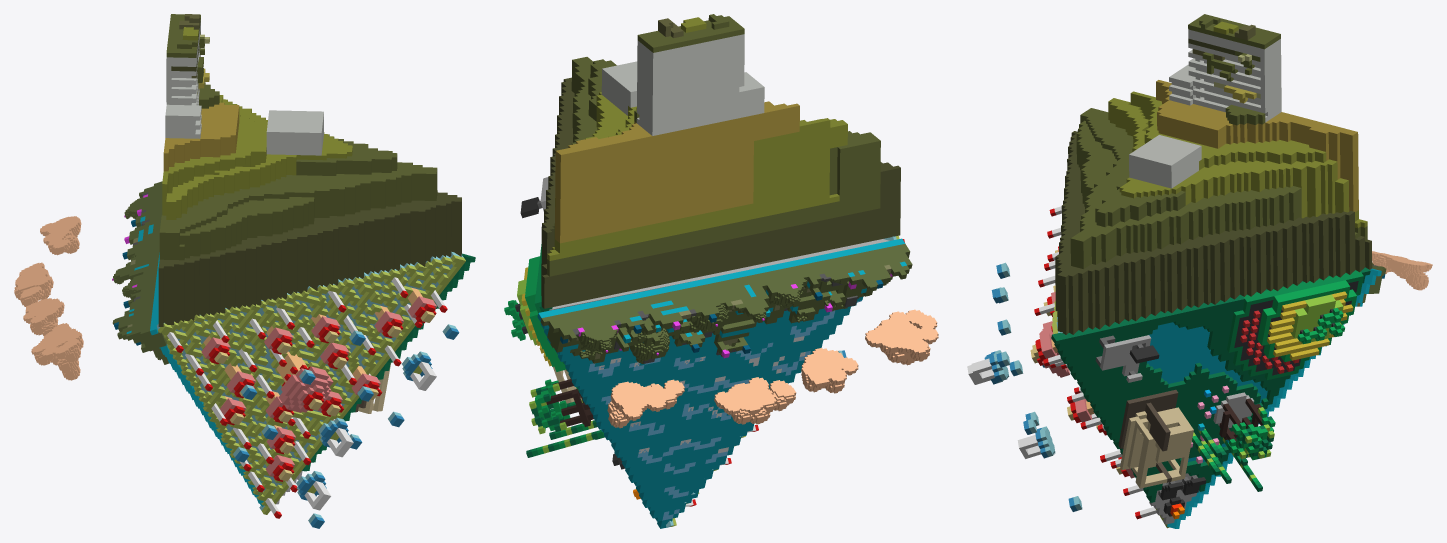
Rendered from tetrahedron.gltf.
3 views of the same model, side by side, from view 1: azimuth 30°, elevation 25°; view 2: azimuth 150°, elevation 25°; view 3: azimuth 270°, elevation 25° (orthographic). The views are drawn at different scales.
Parts seen in each view (by area): view 1: City(Kaylee).vox.002, dec_future.vox; view 2: City(Kaylee).vox.002, dec_future.vox, City(Kaylee).vox.001; view 3: City(Kaylee).vox.002, dec_future.vox.
Part boxes in pixels (x1,y1,x2,y2): City(Kaylee).vox.002: (157,14,475,528); dec_future.vox: (14,181,263,506); City(Kaylee).vox.002: (504,14,904,526); dec_future.vox: (537,238,938,528); City(Kaylee).vox.001: (549,239,889,310); City(Kaylee).vox.002: (967,14,1372,528); dec_future.vox: (1167,251,1432,528).
Bounding box in the file's own units: 8.86 × 10.56 × 9.22.
4 materials, 4 textured.
